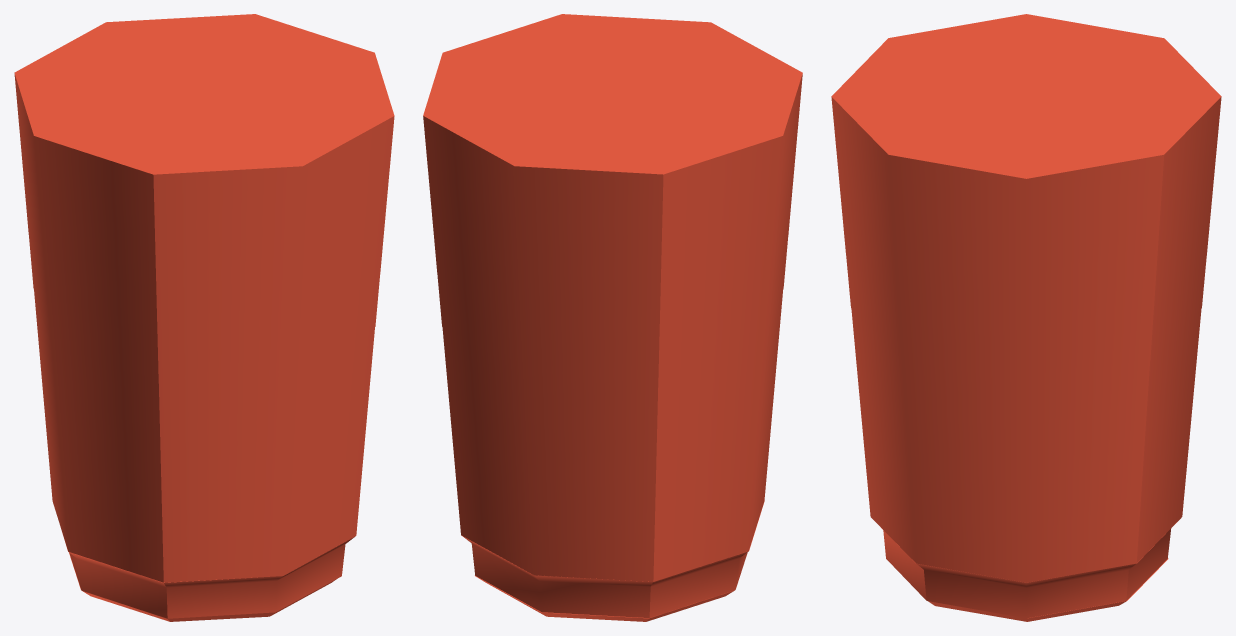
Rendered from orange_soda.fbx.
3 views of the same model, side by side, from view 1: azimuth 30°, elevation 25°; view 2: azimuth 150°, elevation 25°; view 3: azimuth 270°, elevation 25° (orthographic).
Parts seen in each view (by area): view 1: Fill_Top8, Fill_Top1, Fill_Top2, Fill_Top3, Fill_Top5, Fill_Top6, Fill_Top4, Fill_Top7, Fill_Middle, Fill_Bottom; view 2: Fill_Top8, Fill_Top1, Fill_Top2, Fill_Top3, Fill_Top5, Fill_Top6, Fill_Top4, Fill_Top7, Fill_Middle, Fill_Bottom; view 3: Fill_Top8, Fill_Top1, Fill_Top2, Fill_Top3, Fill_Top5, Fill_Top6, Fill_Top4, Fill_Top7, Fill_Middle, Fill_Bottom.
Part boxes in pixels (x1,y1,x2,y2): Fill_Top8: [14, 14, 394, 226]; Fill_Top1: [19, 128, 389, 277]; Fill_Top2: [24, 181, 384, 328]; Fill_Top3: [29, 236, 379, 379]; Fill_Top5: [38, 339, 370, 479]; Fill_Top6: [43, 393, 365, 530]; Fill_Top4: [34, 290, 374, 427]; Fill_Top7: [48, 448, 360, 582]; Fill_Middle: [62, 534, 355, 618]; Fill_Bottom: [69, 553, 336, 621]; Fill_Top8: [423, 14, 802, 225]; Fill_Top1: [428, 128, 797, 277]; Fill_Top2: [432, 181, 793, 328]; Fill_Top3: [437, 236, 788, 379]; Fill_Top5: [447, 340, 778, 478]; Fill_Top6: [451, 393, 773, 530]; Fill_Top4: [442, 291, 782, 427]; Fill_Top7: [456, 447, 769, 581]; Fill_Middle: [461, 501, 764, 617]; Fill_Bottom: [475, 575, 734, 621]; Fill_Top8: [831, 14, 1221, 229]; Fill_Top1: [836, 150, 1216, 280]; Fill_Top2: [841, 203, 1211, 331]; Fill_Top3: [846, 256, 1206, 381]; Fill_Top5: [856, 358, 1196, 480]; Fill_Top6: [861, 411, 1191, 531]; Fill_Top4: [851, 308, 1201, 429]; Fill_Top7: [865, 464, 1186, 582]; Fill_Middle: [881, 522, 1176, 618]; Fill_Bottom: [928, 558, 1168, 621].
Size of the model in its own units: 79.3 by 106 by 79.29.
1 material, 1 textured.
